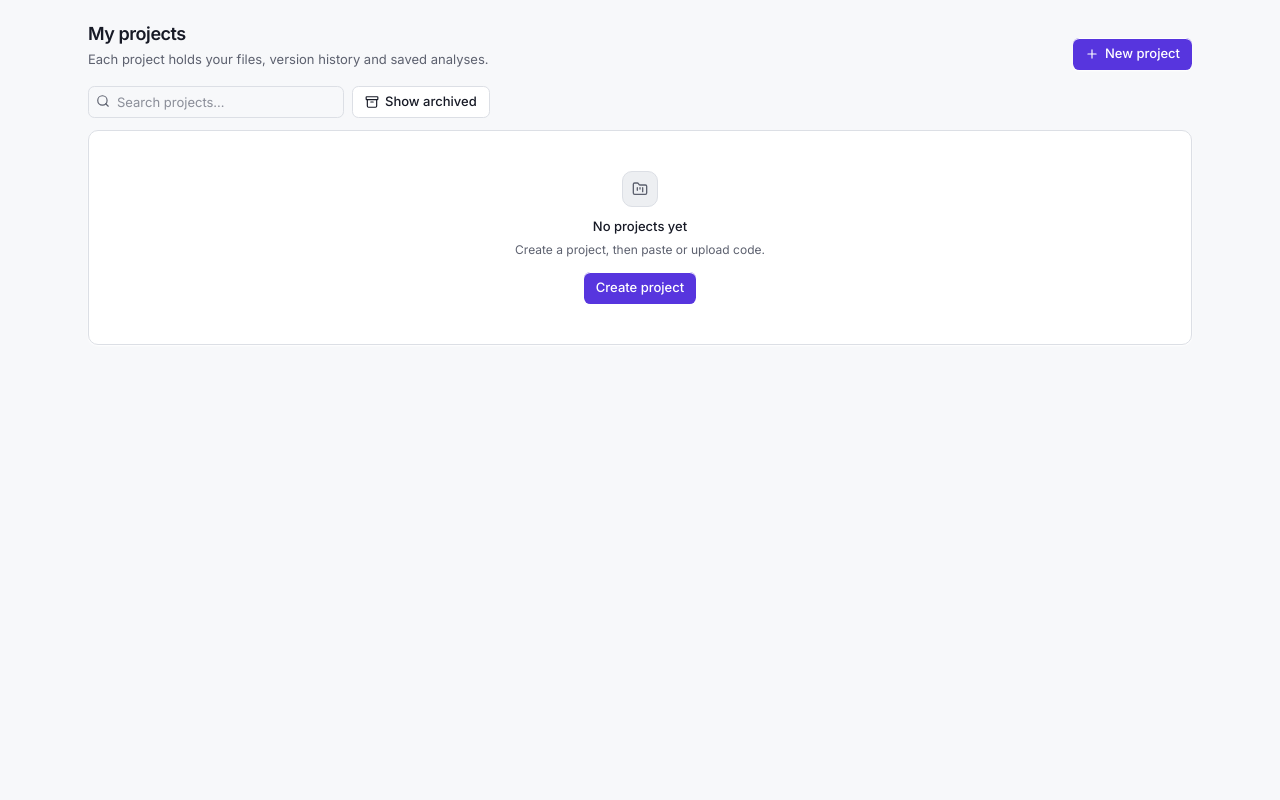
Test case: Projects page › creates a project through the API and refreshes the list
Click the button "New project" at (1132, 54), box [1073,38,1192,70]
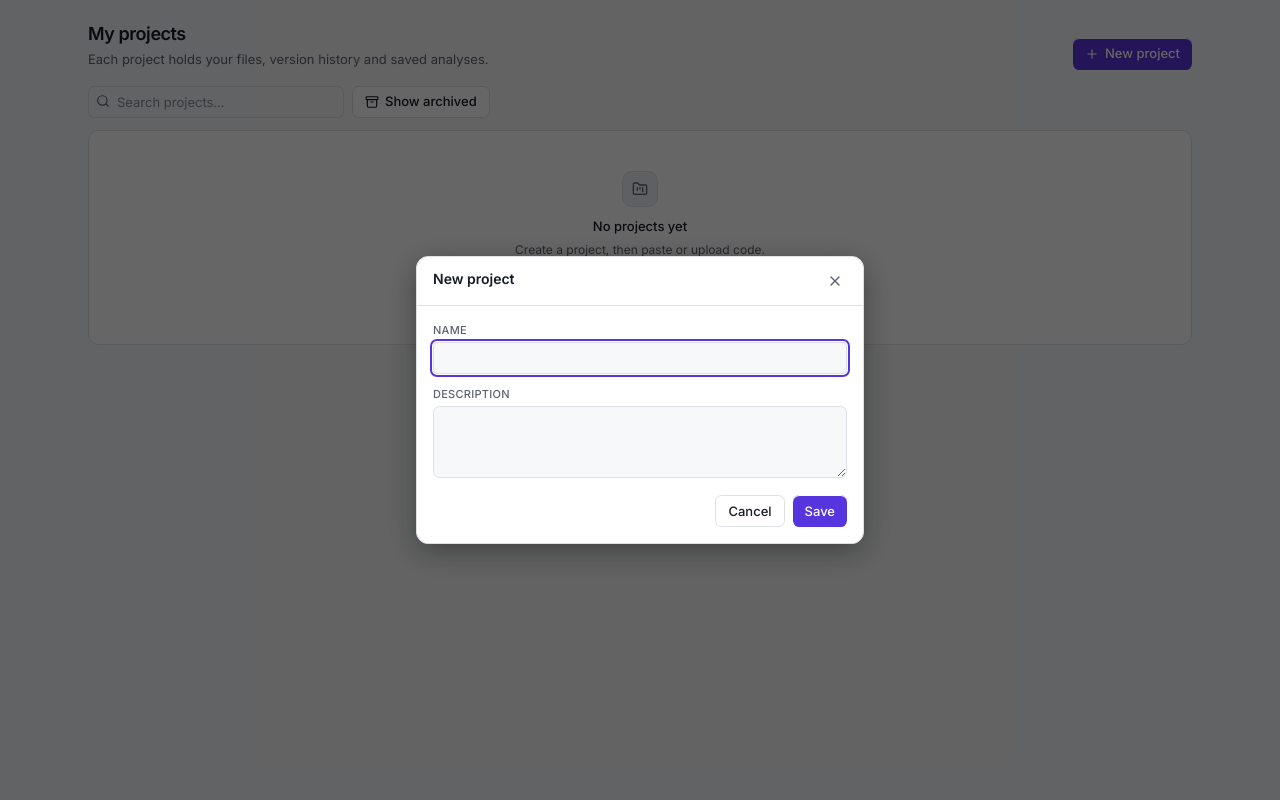
Type "Beta" into the field labelled "Name" at (640, 358), box [433,342,847,374]
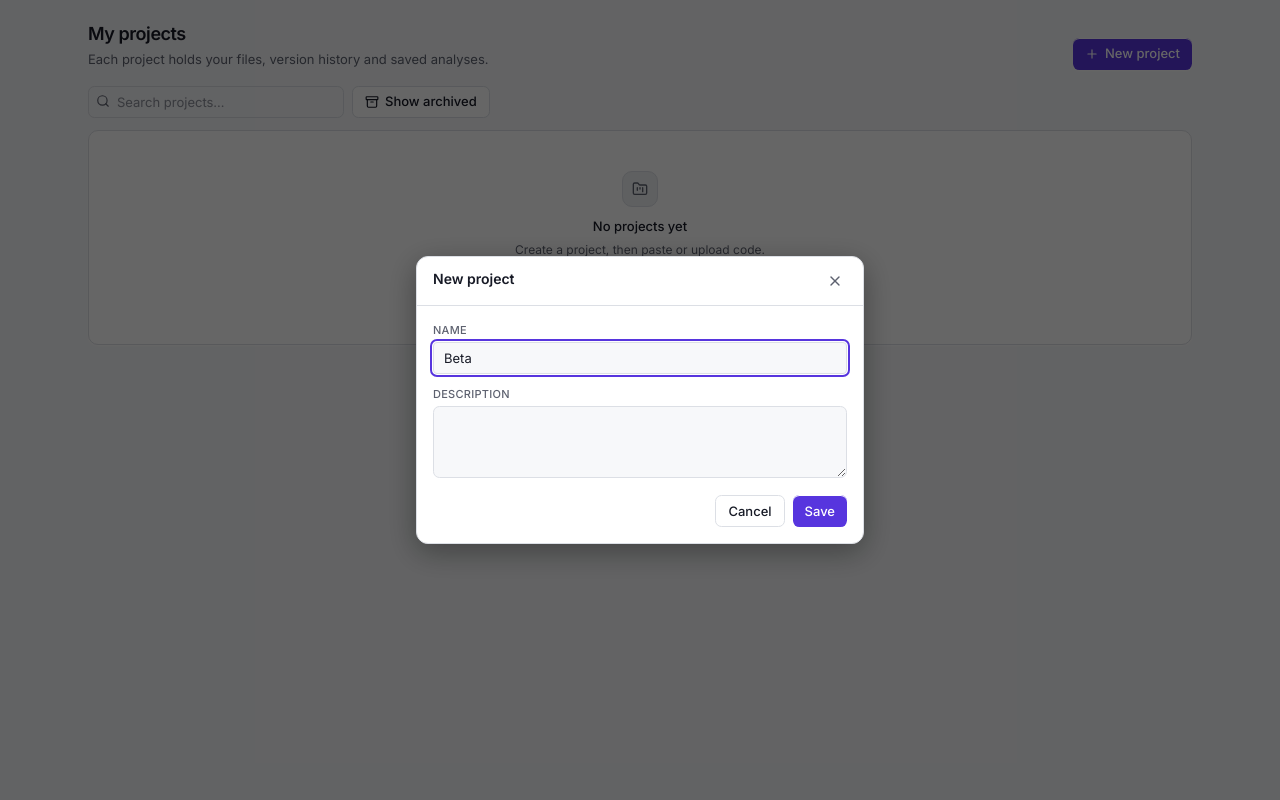
Click the button "Save" at (820, 511), box [792,495,847,527]
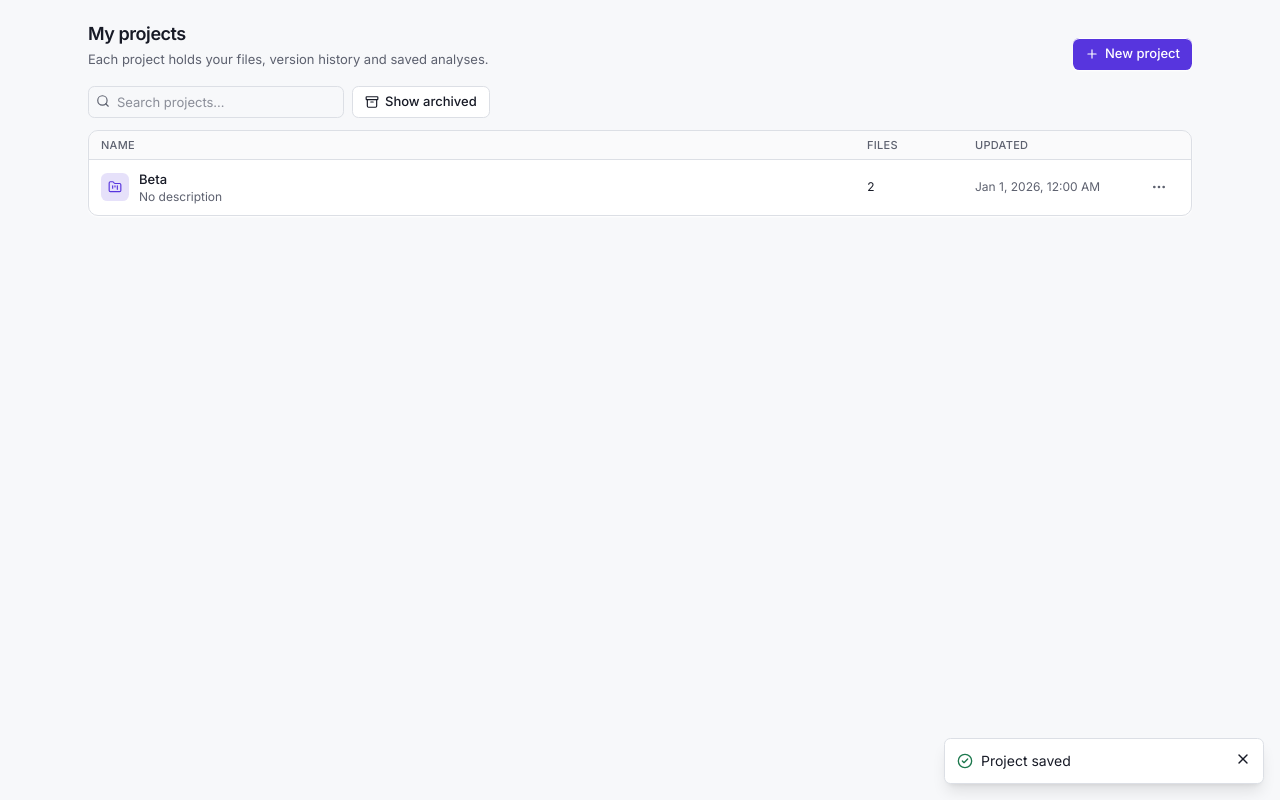
Check: the text "Beta" is shown, box [139,170,167,186]
